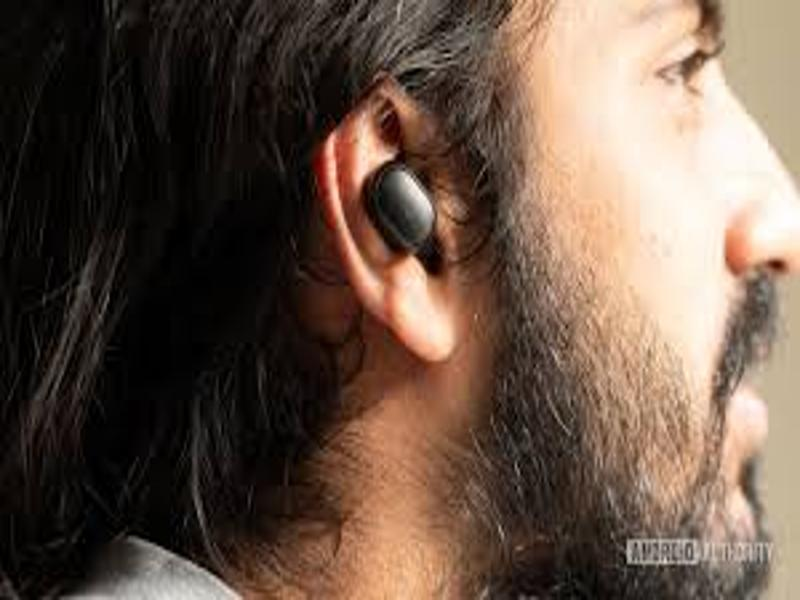headphone: (375, 155, 435, 256)
